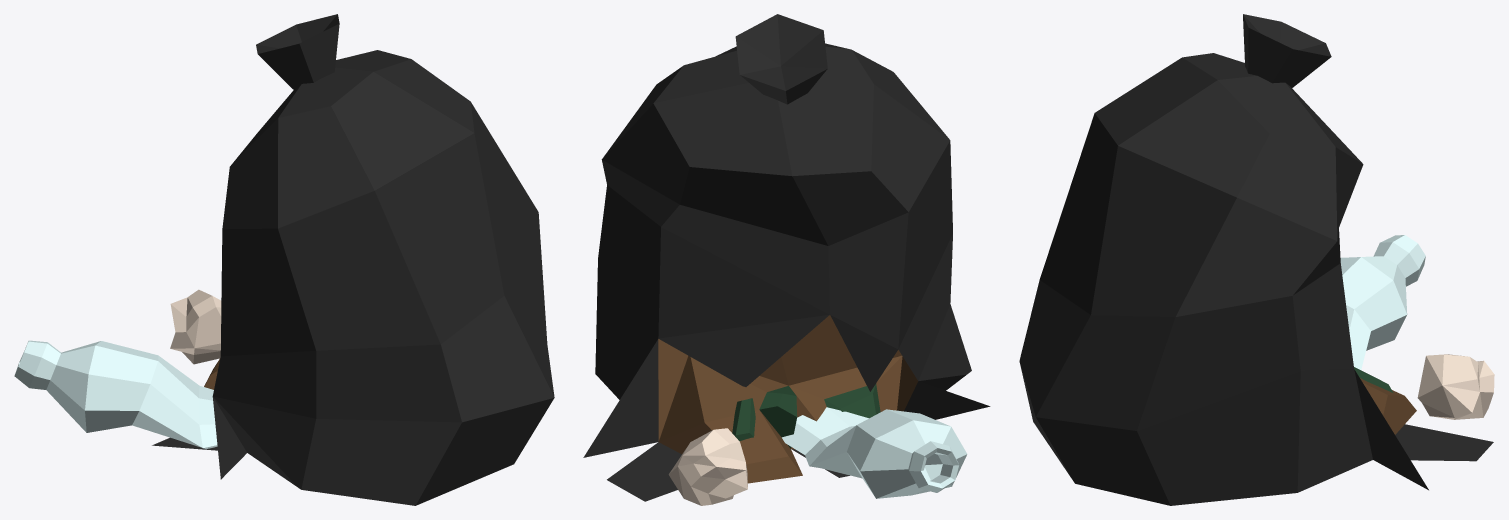
Rendered from apocalypse-garbage-open-b.glb.
3 renders of one model, left to right at view 1: azimuth 30°, elevation 25°; view 2: azimuth 150°, elevation 25°; view 3: azimuth 270°, elevation 25°, orthographic. The views are drawn at different scales.
Parts seen in each view (by area): view 1: garbage-open-b; view 2: garbage-open-b; view 3: garbage-open-b.
Boxes of the visible parts, x1,y1,x2,y2 form: garbage-open-b: (14,14,554,505); garbage-open-b: (583,14,990,505); garbage-open-b: (1019,14,1494,505).
Bounding box in the file's own units: 0.5636 × 0.5212 × 0.5459.
